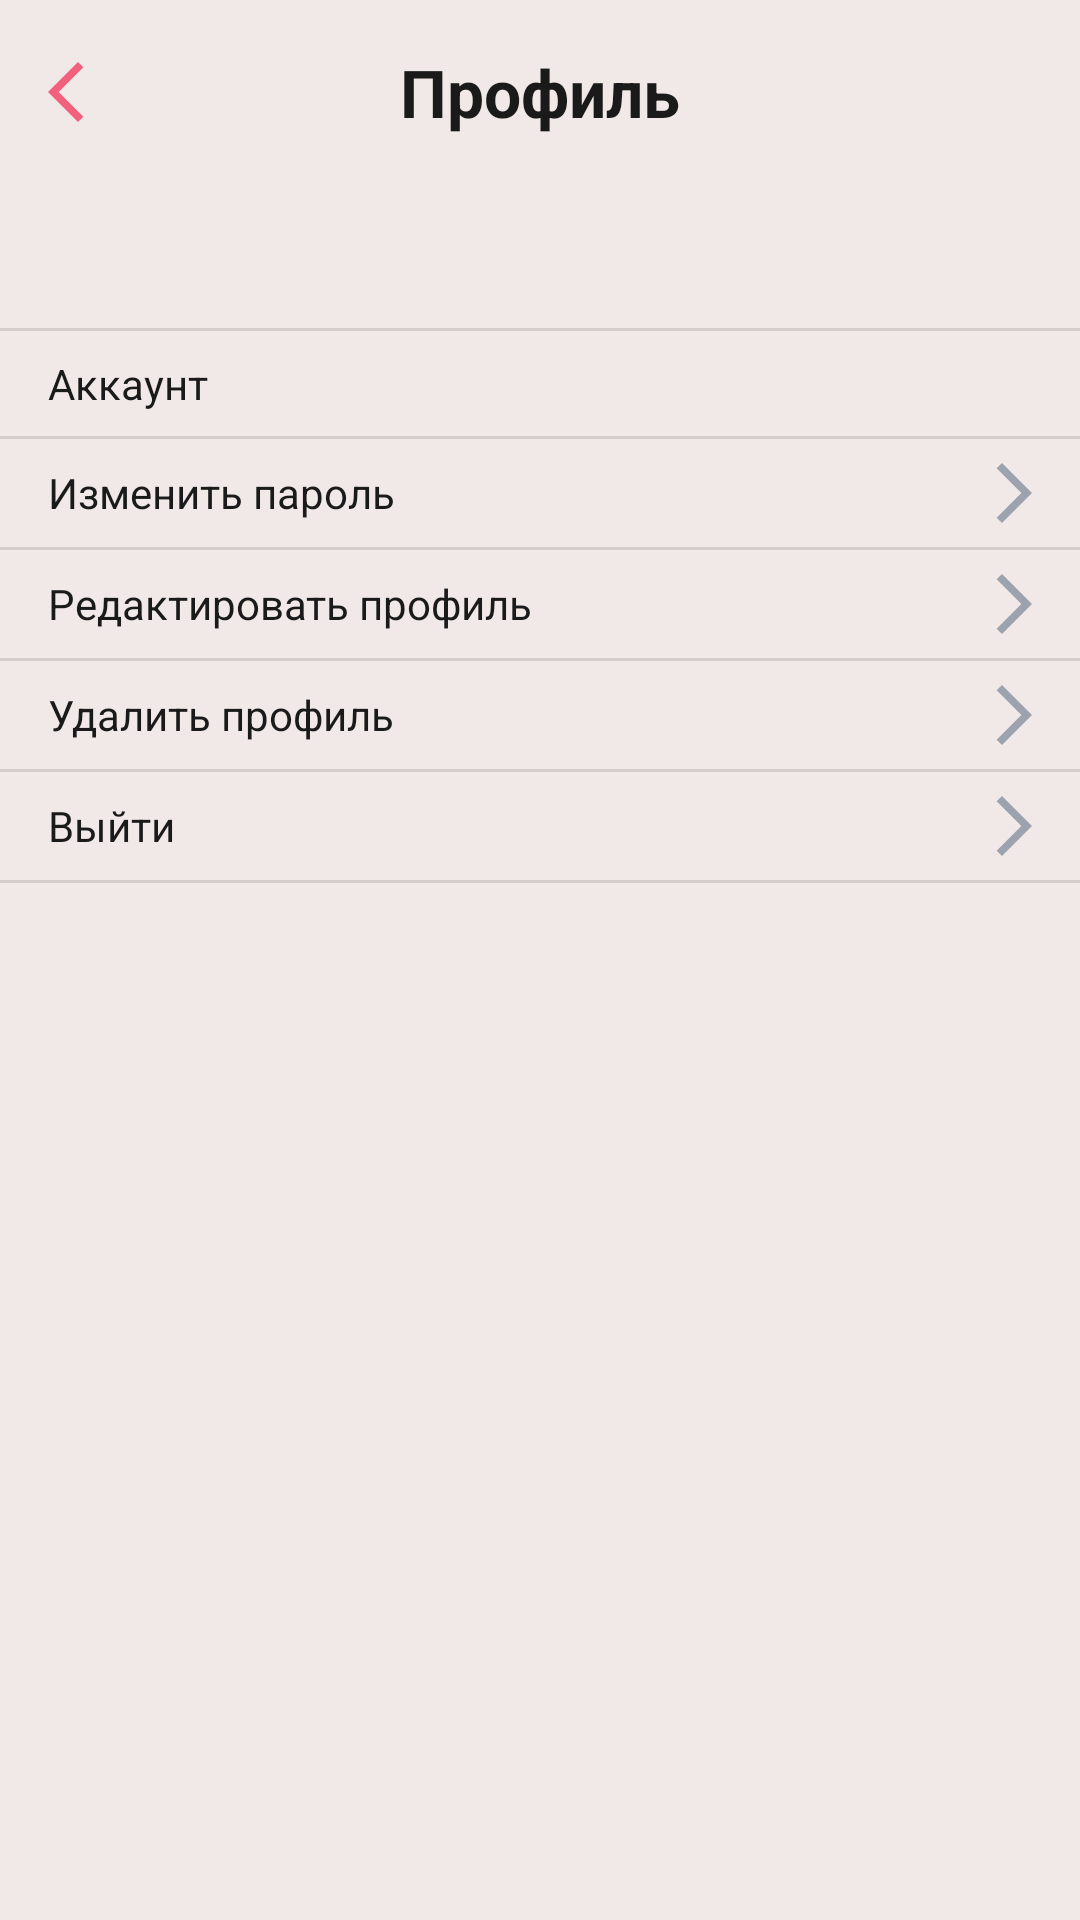

Where icons sit on this 1080x1920 app screen, as (x1, y1, x2, y2):
chevrone left: (48, 62, 83, 122)
chevrone right: (997, 463, 1032, 523), (997, 574, 1032, 634), (997, 685, 1032, 745), (997, 796, 1032, 856)
